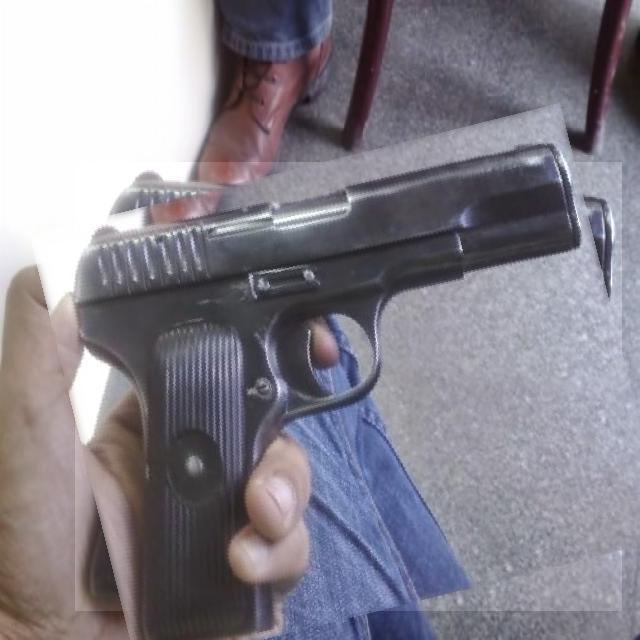Handgun: (52, 132, 640, 640)
